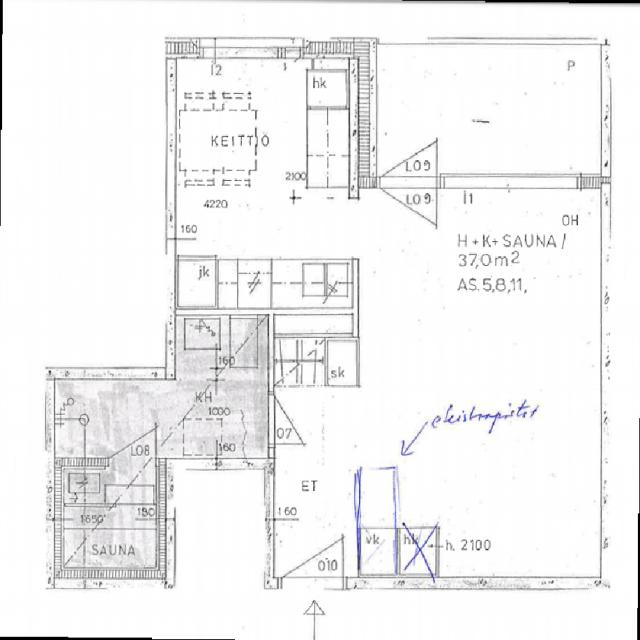door: (281, 507, 342, 589), (380, 174, 436, 252), (380, 110, 436, 188), (109, 404, 154, 464), (268, 393, 318, 445)
